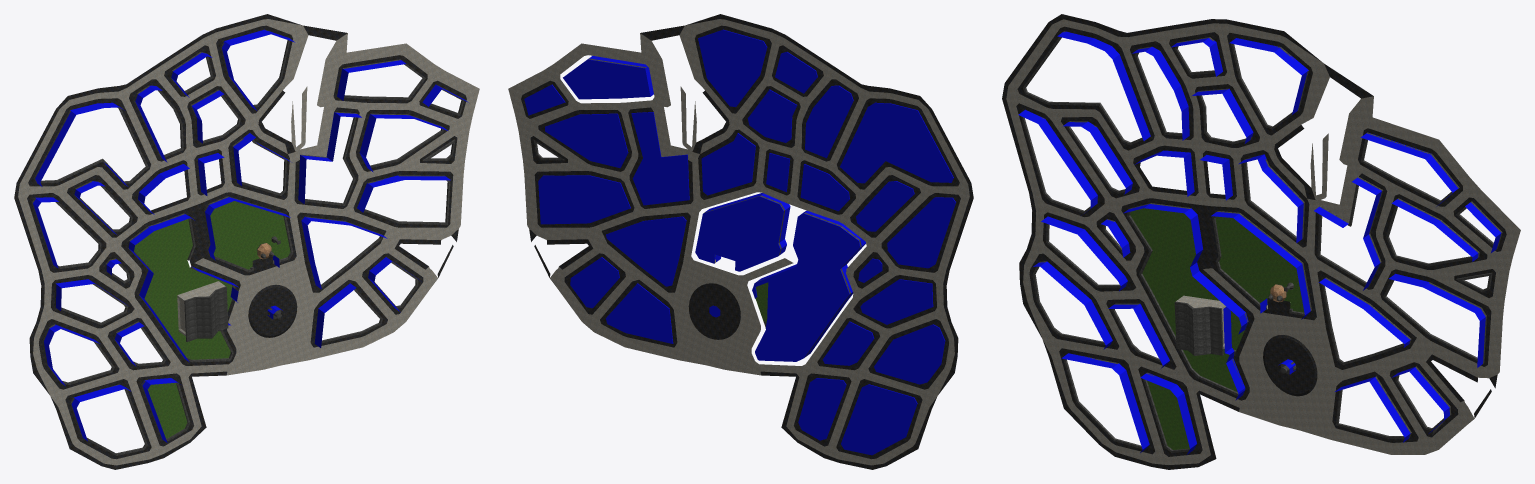
Rendered from stage_143963_autosave.glb.
3 views of the same model, side by side, from view 1: azimuth 30°, elevation 25°; view 2: azimuth 150°, elevation 25°; view 3: azimuth 330°, elevation 25° (orthographic). The views are drawn at different scales.
Parts seen in each view (by area): view 1: floor, walls, floor.006, floor.008, Cylinder.004, floor.004, floor.024, floor.026, floor.014; view 2: walls, floor, floor.006; view 3: floor, walls, floor.006, floor.008, Cylinder.004, floor.004, floor.014, floor.007, floor.024, floor.026, floor.022, floor.023 (+3 smaller).
Part boxes in pixels (box(x1,y1,x2,y2)): floor: box(14, 14, 479, 469); walls: box(33, 29, 468, 442); floor.006: box(127, 213, 235, 362); floor.008: box(204, 196, 293, 272); Cylinder.004: box(177, 281, 228, 341); floor.004: box(141, 380, 190, 440); floor.024: box(34, 107, 148, 183); floor.026: box(364, 175, 450, 224); floor.014: box(300, 112, 356, 205); walls: box(524, 29, 955, 455); floor: box(508, 14, 973, 469); floor.006: box(755, 212, 861, 357); floor: box(1002, 14, 1520, 469); walls: box(1018, 31, 1501, 454); floor.006: box(1127, 203, 1248, 395); floor.008: box(1212, 211, 1311, 315); Cylinder.004: box(1174, 295, 1226, 355); floor.004: box(1143, 372, 1189, 452); floor.014: box(1317, 176, 1383, 286); floor.007: box(1321, 277, 1411, 364); floor.024: box(1023, 31, 1142, 145); floor.026: box(1383, 280, 1486, 363); floor.022: box(1386, 198, 1479, 266); floor.023: box(1360, 132, 1459, 203).
Size of the model in its own units: 1197 by 1031 by 58.49.
6 materials, 5 textured.
